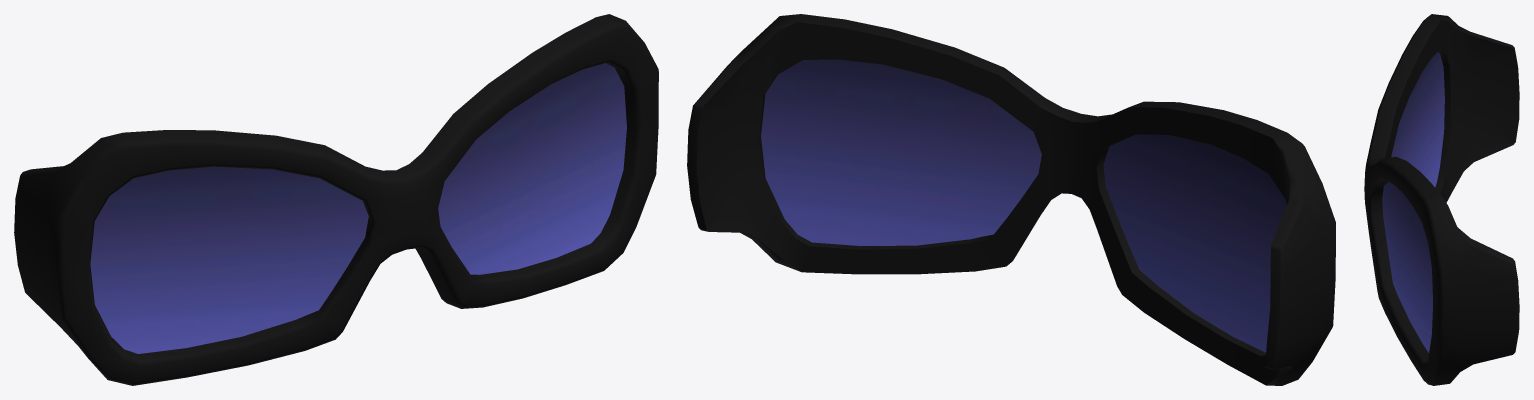
The model's file is AccessoryGlassButterfly0.glb.
3 views of the same model, side by side, from view 1: azimuth 30°, elevation 25°; view 2: azimuth 150°, elevation 25°; view 3: azimuth 270°, elevation 25° (orthographic). The views are drawn at different scales.
Parts seen in each view (by area): view 1: AccessoryAlpha__mAccessoryAlpha, Accessory__mAccessory; view 2: AccessoryAlpha__mAccessoryAlpha, Accessory__mAccessory; view 3: Accessory__mAccessory, AccessoryAlpha__mAccessoryAlpha.
Boxes of the visible parts, left/top/right/bottom form: AccessoryAlpha__mAccessoryAlpha: left=90, top=63, right=626, bottom=353; Accessory__mAccessory: left=14, top=14, right=658, bottom=385; AccessoryAlpha__mAccessoryAlpha: left=761, top=59, right=1286, bottom=352; Accessory__mAccessory: left=687, top=14, right=1335, bottom=385; Accessory__mAccessory: left=1364, top=14, right=1519, bottom=385; AccessoryAlpha__mAccessoryAlpha: left=1382, top=52, right=1444, bottom=352.
Bounding box in the file's own units: 6.25 × 2.45 × 1.83.
2 materials, 2 textured.
